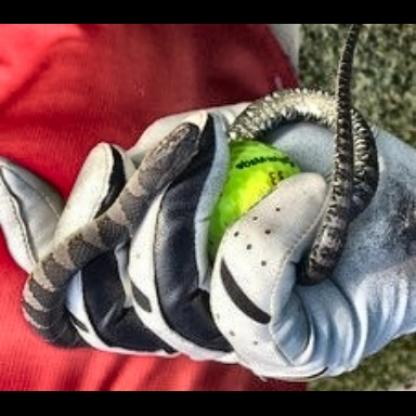Snake: (11, 78, 416, 383)
